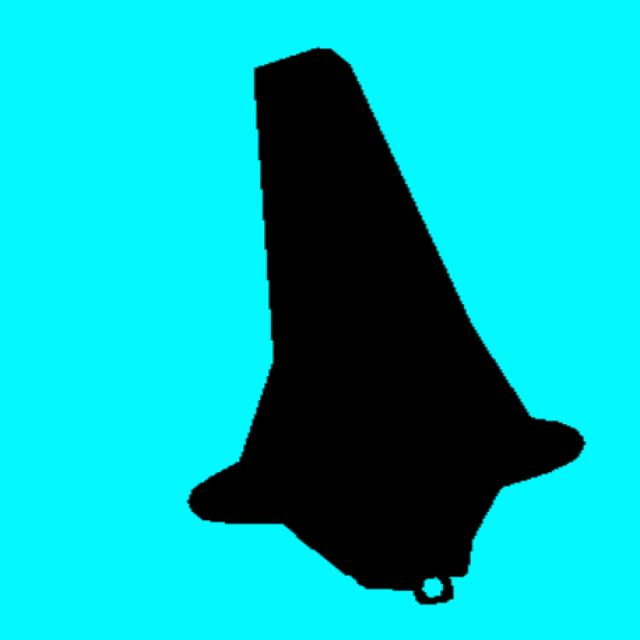BlackBuoy: (182, 46, 587, 604)
